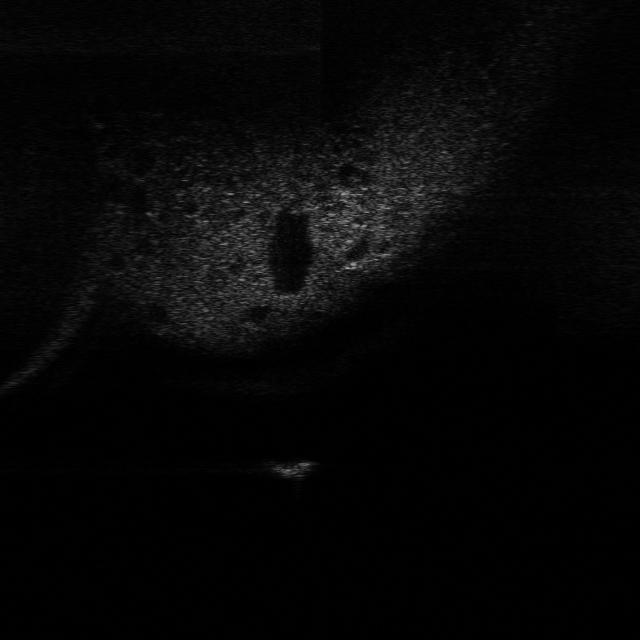cube: (258, 453, 318, 483)
